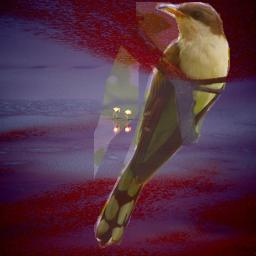Cuckoo: (94, 2, 230, 249)
